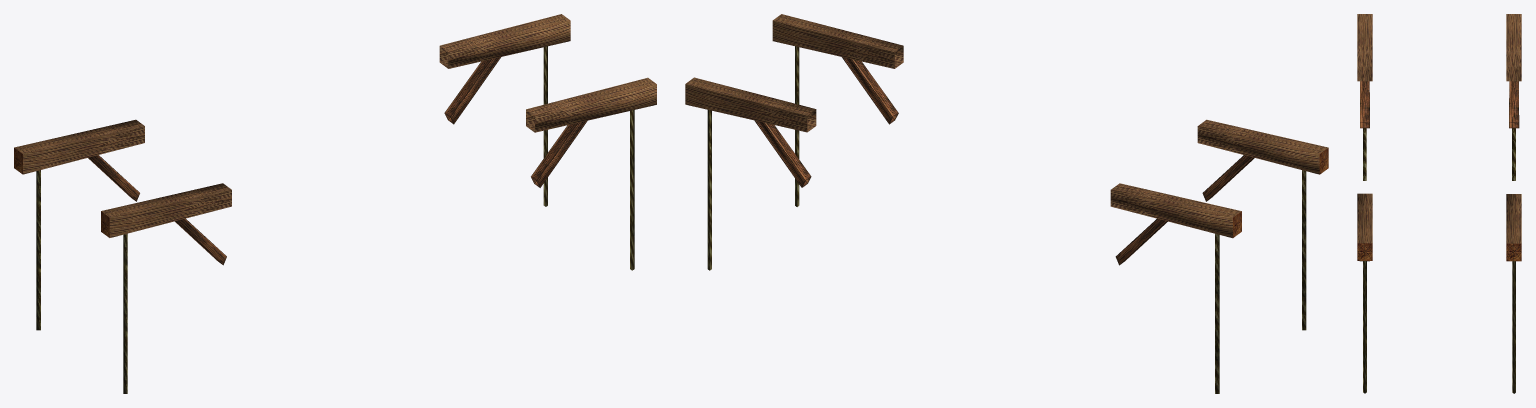
The model's file is LAKETOWN_EXTERIOR_PS_LT_ROPESUP74646__GX.fbx.
3 views of the same model, side by side, from view 1: azimuth 30°, elevation 25°; view 2: azimuth 150°, elevation 25°; view 3: azimuth 270°, elevation 25° (orthographic). The views are drawn at different scales.
Parts seen in each view (by area): view 1: LAKETOWN_EXTERIOR_PS_LT_ROPESUP74646__GX; view 2: LAKETOWN_EXTERIOR_PS_LT_ROPESUP74646__GX; view 3: LAKETOWN_EXTERIOR_PS_LT_ROPESUP74646__GX.
Part boxes in pixels (x1,y1,x2,y2): LAKETOWN_EXTERIOR_PS_LT_ROPESUP74646__GX: (14,14,656,393); LAKETOWN_EXTERIOR_PS_LT_ROPESUP74646__GX: (685,14,1328,393); LAKETOWN_EXTERIOR_PS_LT_ROPESUP74646__GX: (1357,14,1521,393).
Bounding box in the file's own units: 87064 × 27944 × 26391.
Materials: 4 (4 with a texture image).
